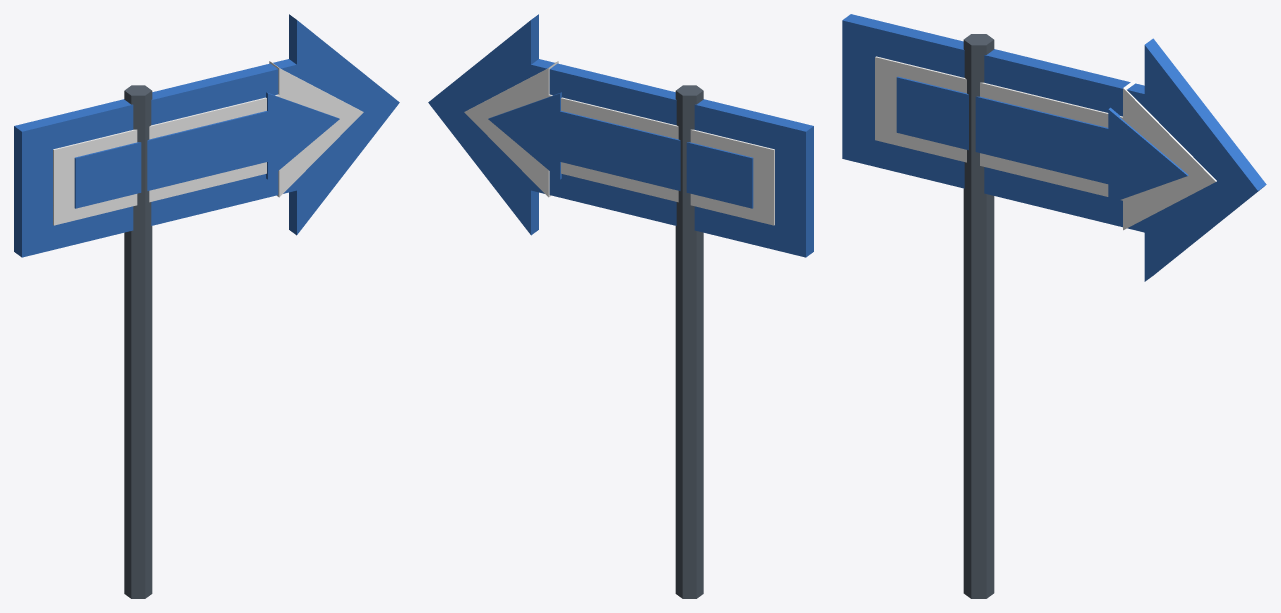
The model's file is sign_arrow.glb.
3 views of the same model, side by side, from view 1: azimuth 30°, elevation 25°; view 2: azimuth 150°, elevation 25°; view 3: azimuth 330°, elevation 25° (orthographic). The views are drawn at different scales.
Visible parts, largest first — view 1: sign_arrow; view 2: sign_arrow; view 3: sign_arrow.
Boxes of the visible parts, x1=… form: sign_arrow: x1=14, y1=14, x2=399, y2=598; sign_arrow: x1=428, y1=14, x2=813, y2=598; sign_arrow: x1=842, y1=14, x2=1266, y2=598.
Size of the model in its own units: 2.2 by 3 by 0.14.
